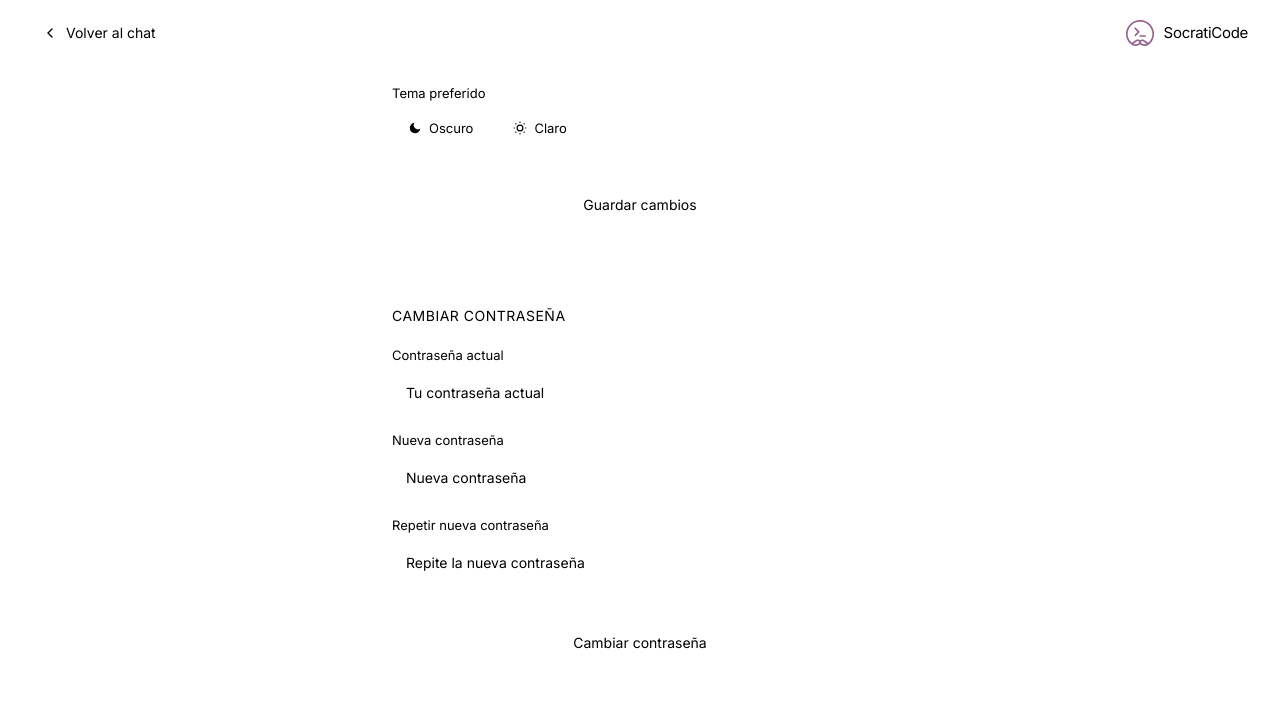
Test: ProfileView — handleChangePassword › shows passError feedback on failed changePassword
(page scrolled)
Type "old" into the password field with id "current-password" at point(640, 393), box [392,372,888,414]
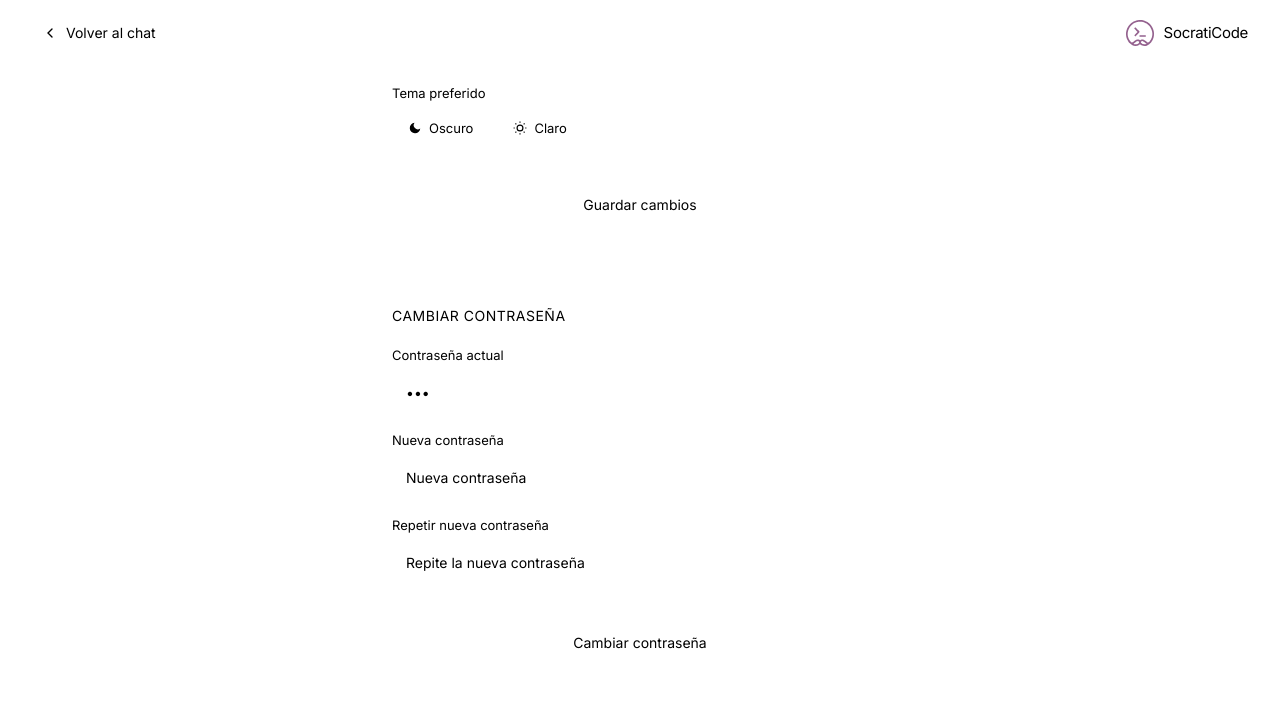
Type "newpass" into the password field with id "new-password" at point(640, 478), box [392,457,888,500]
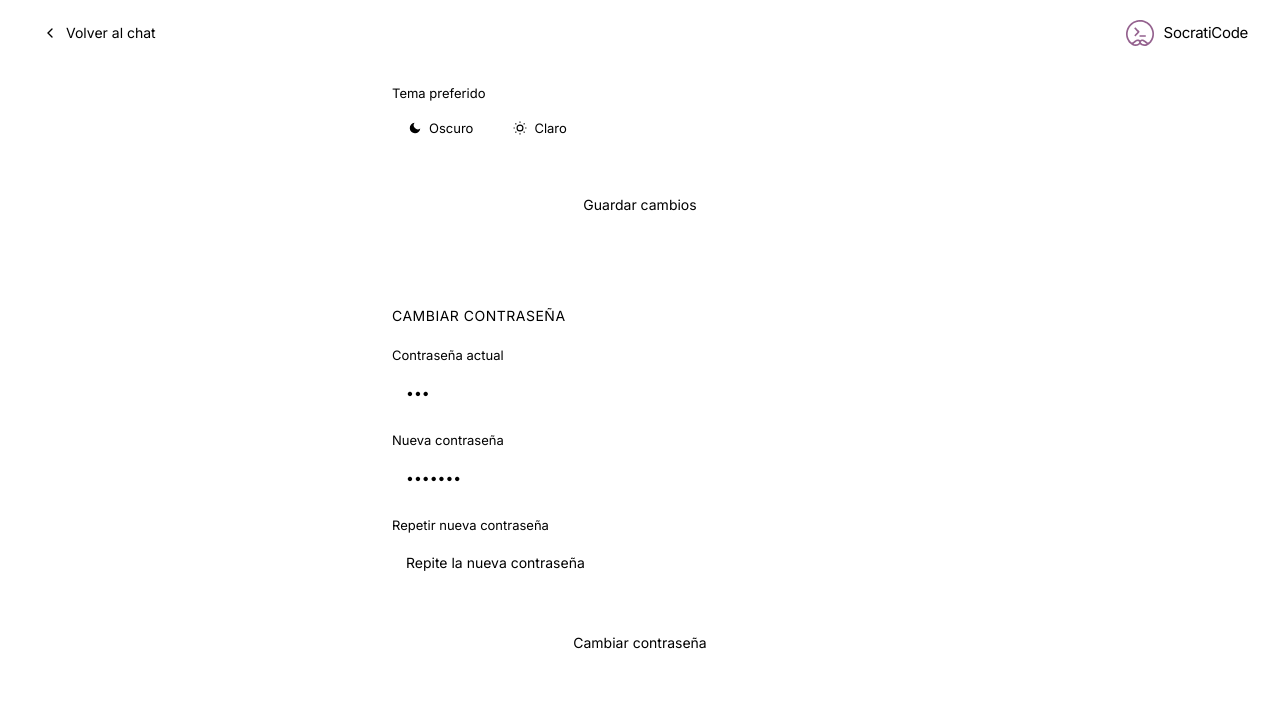
Type "newpass" into the password field with id "new-password-confirm" at point(640, 564), box [392,542,888,585]
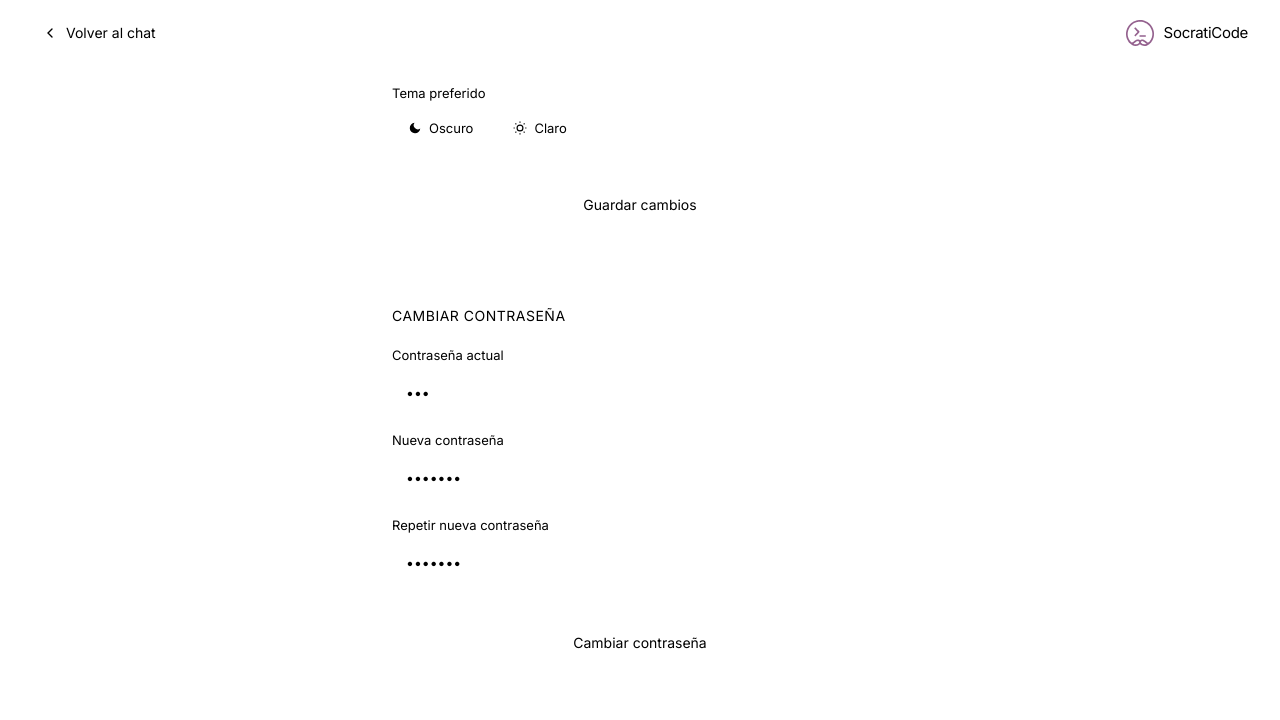
Submit the form, box [392,345,888,665]
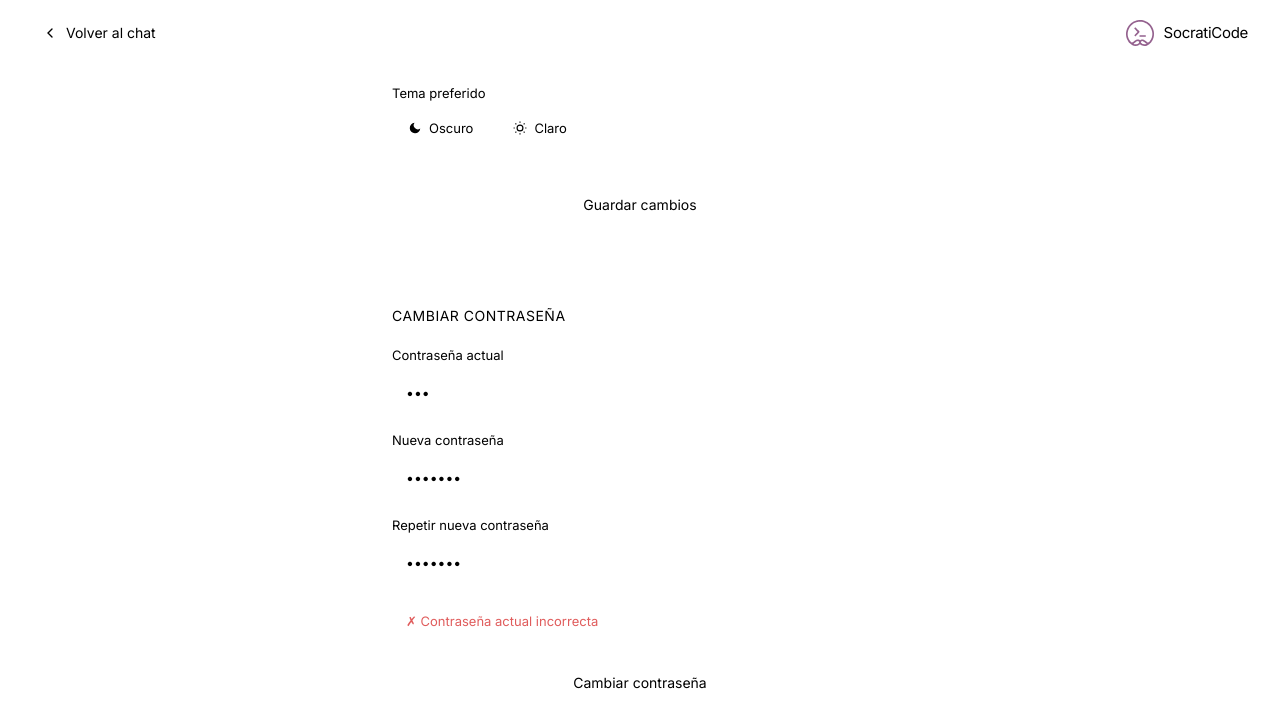
Expected: the text "✗ Contraseña actual incorrecta" is shown, [406,613,598,629]
